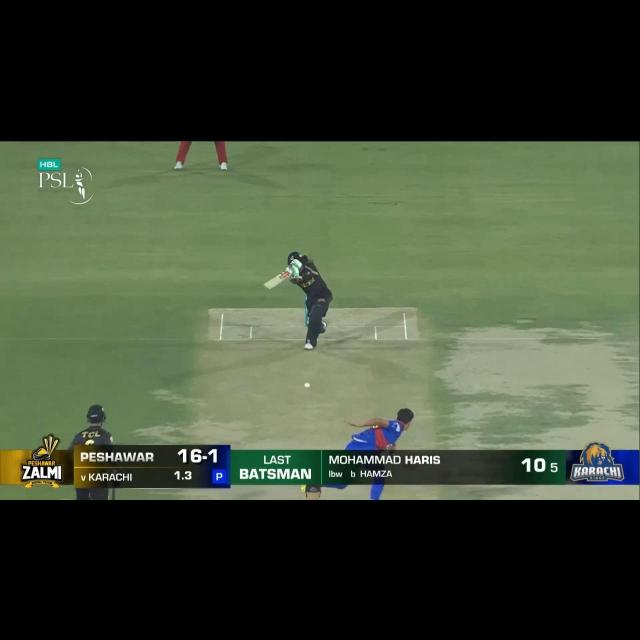bat: (262, 267, 292, 291)
toe: (261, 283, 272, 291)
